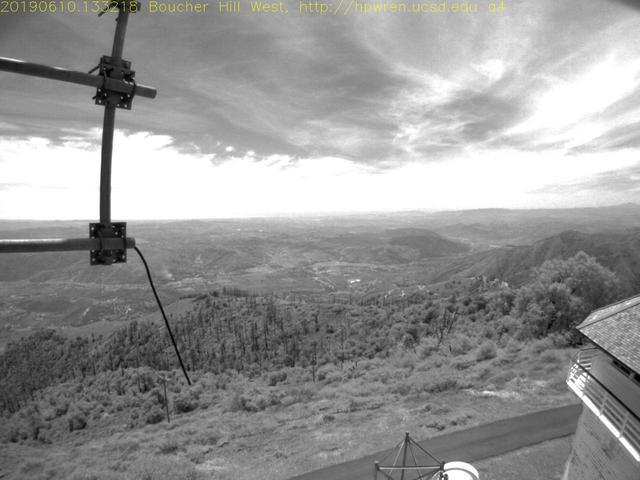Smoke: (143, 242, 175, 281)
